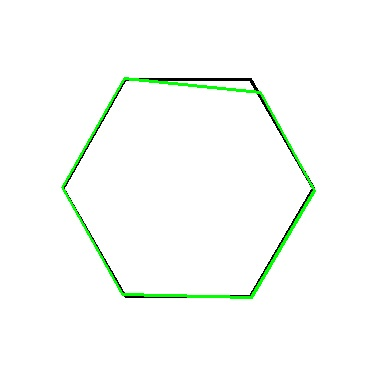line_segment: (62, 77, 315, 299)
